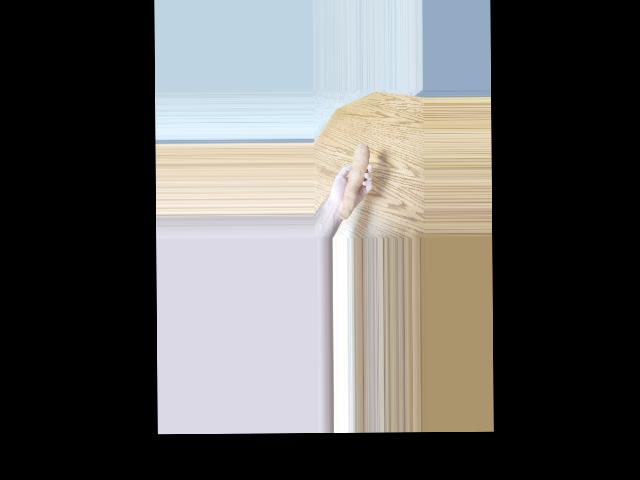sweet_potato: (342, 147, 372, 215)
